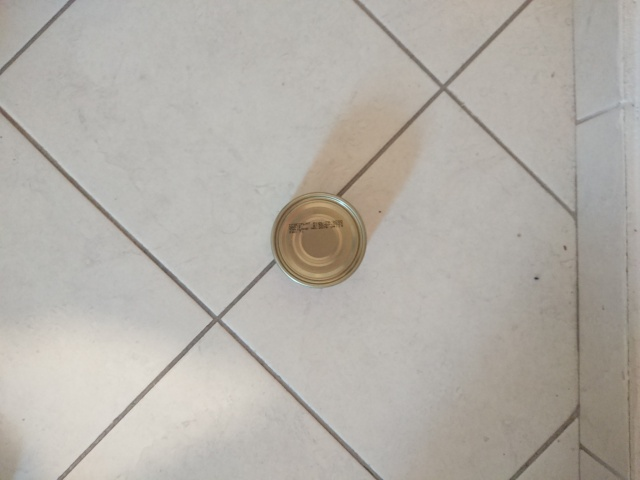Giana Tuna Salad Mexico 185g: (267, 188, 369, 291)
